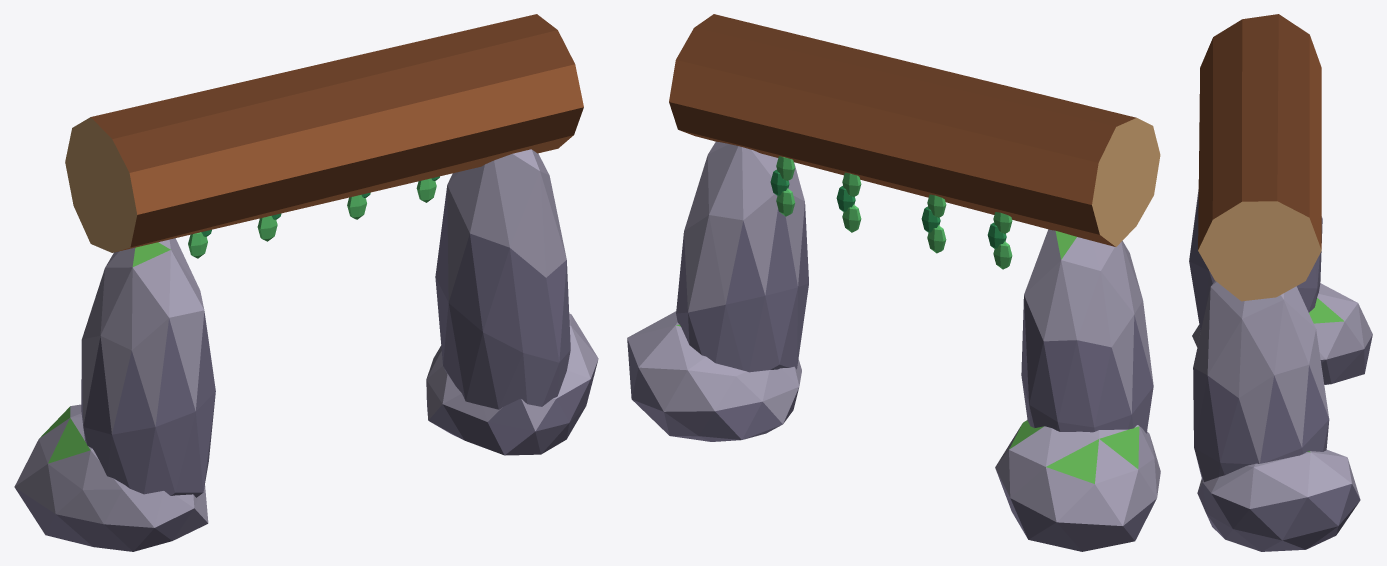
File: VineBridge.fbx
The picture shows the model from 3 angles, left to right: view 1: azimuth 30°, elevation 25°; view 2: azimuth 150°, elevation 25°; view 3: azimuth 270°, elevation 25°; orthographic projection. The views are drawn at different scales.
Visible parts, largest first — view 1: VineBridge; view 2: VineBridge; view 3: VineBridge.
Boxes of the visible parts, bbox=[...] form: VineBridge: bbox=[14, 14, 598, 551]; VineBridge: bbox=[627, 14, 1160, 551]; VineBridge: bbox=[1189, 14, 1372, 551].
Bounding box in the file's own units: 2.16 × 1.61 × 0.756.
1 material, 1 textured.
